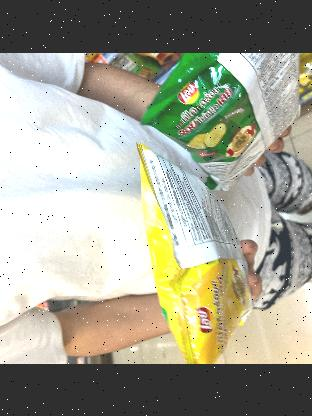Others: (132, 142, 256, 364), (124, 52, 310, 180)
